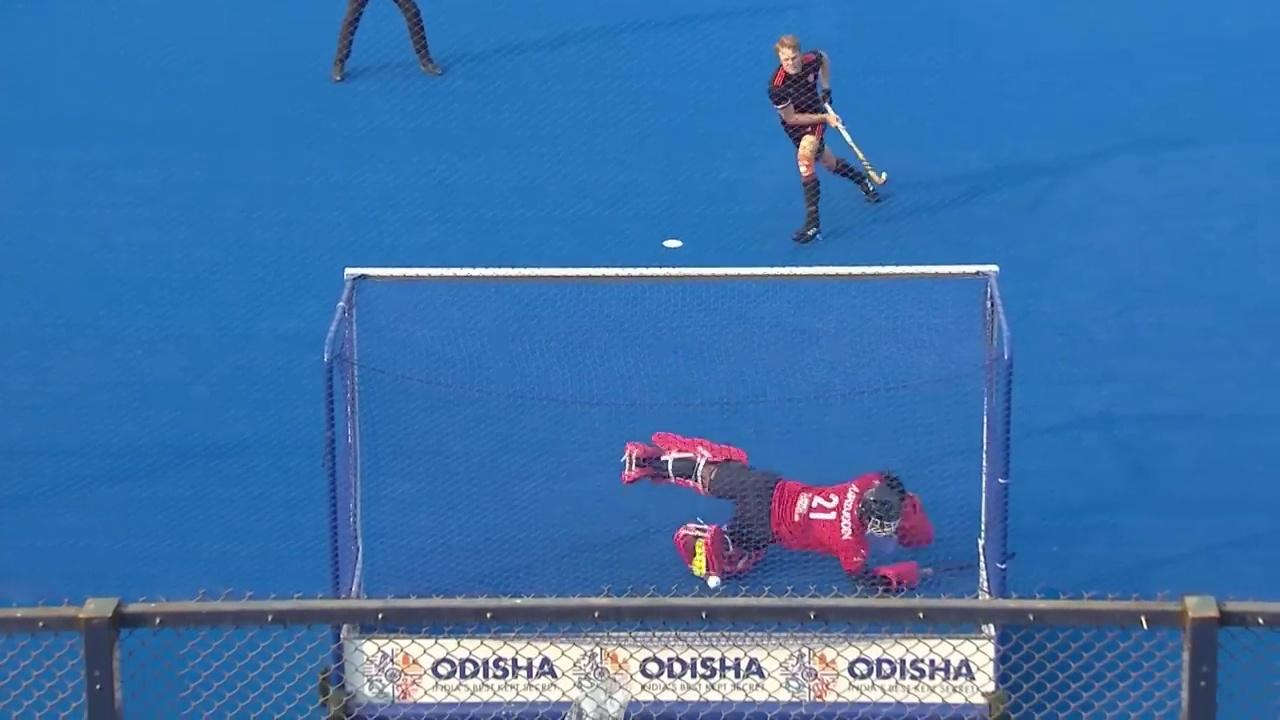ball: (707, 571, 719, 592)
